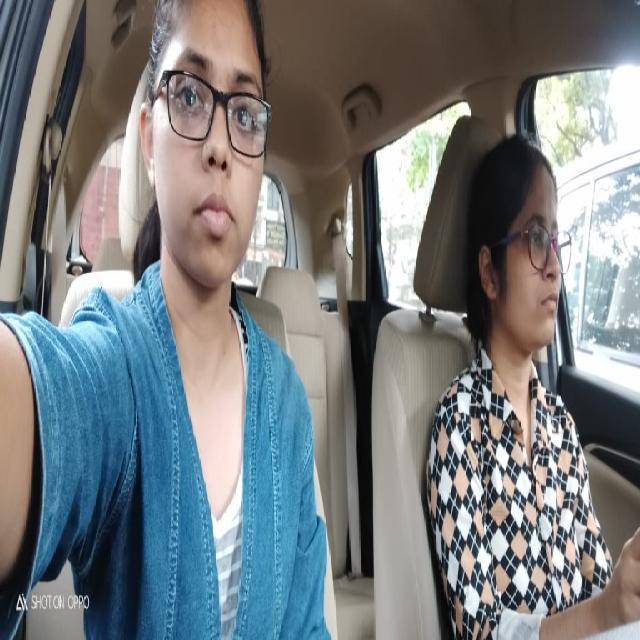person: (130, 0, 276, 290), (470, 142, 572, 370)
